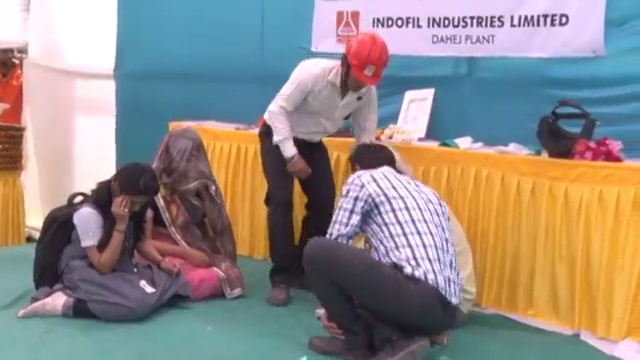helmet: (344, 32, 393, 85)
helmet_off: (155, 132, 212, 198), (100, 162, 161, 216), (342, 145, 402, 174), (0, 41, 16, 69)
helmet_on: (334, 33, 393, 97)
person: (258, 32, 393, 304), (308, 143, 472, 358), (14, 156, 193, 316), (134, 125, 245, 298), (0, 42, 27, 127)
